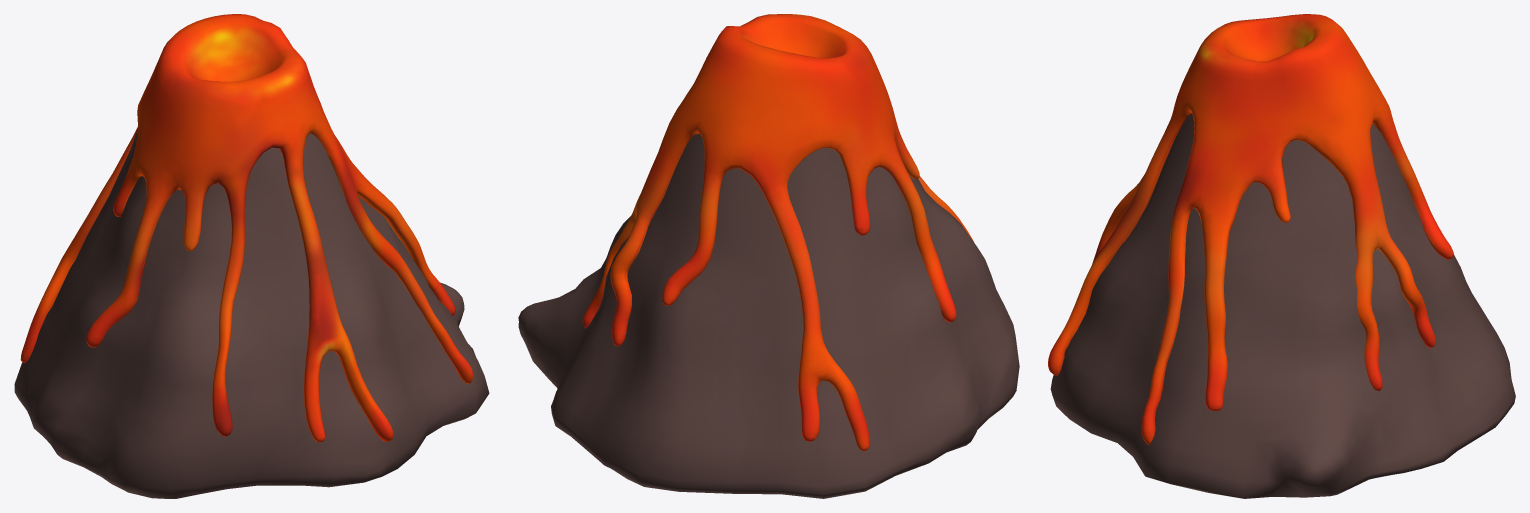
File: cartoon-volcano.glb
3 views of the same model, side by side, from view 1: azimuth 30°, elevation 25°; view 2: azimuth 150°, elevation 25°; view 3: azimuth 270°, elevation 25° (orthographic).
Visible parts, largest first — view 1: node_id192_1; view 2: node_id192_1; view 3: node_id192_1.
Boxes of the visible parts, <box> form: node_id192_1: <box>14,14,489,498</box>; node_id192_1: <box>518,14,1019,498</box>; node_id192_1: <box>1048,14,1515,498</box>.
Size of the model in its own units: 0.6495 by 0.5379 by 0.6149.
1 material, 1 textured.
